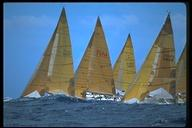sailboat: (118, 8, 180, 106), (20, 6, 78, 100), (70, 14, 118, 100), (110, 31, 140, 96)
sky: (5, 4, 32, 75), (105, 4, 157, 31)
water: (4, 105, 185, 124)
